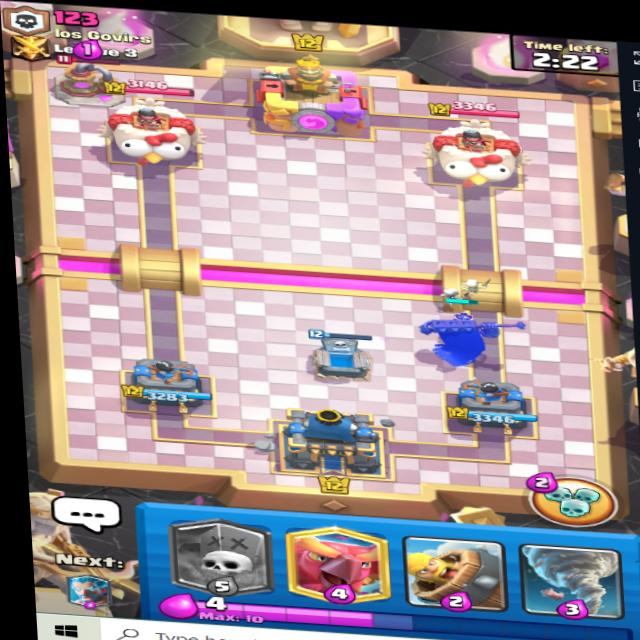elixir-collector: (46, 49, 126, 107)
